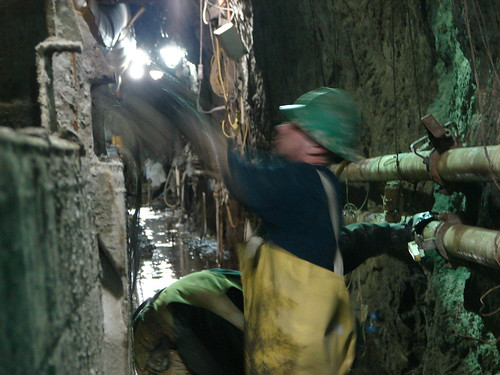person hardhat: (166, 82, 374, 375)
